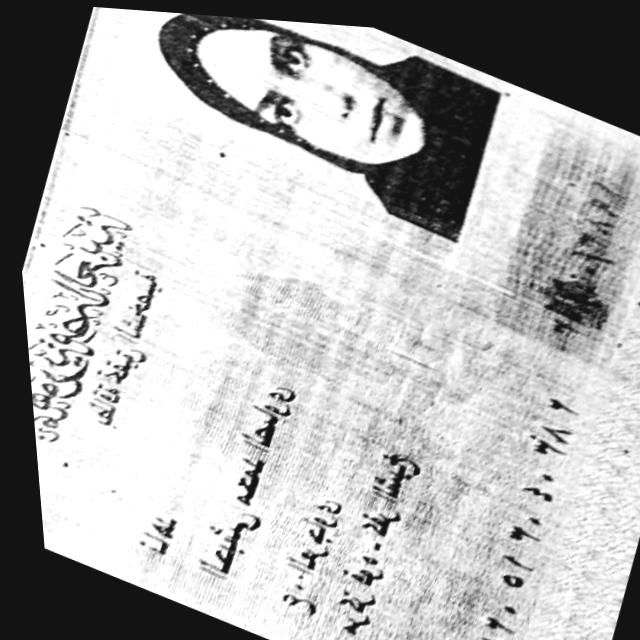front: (22, 7, 640, 640)
